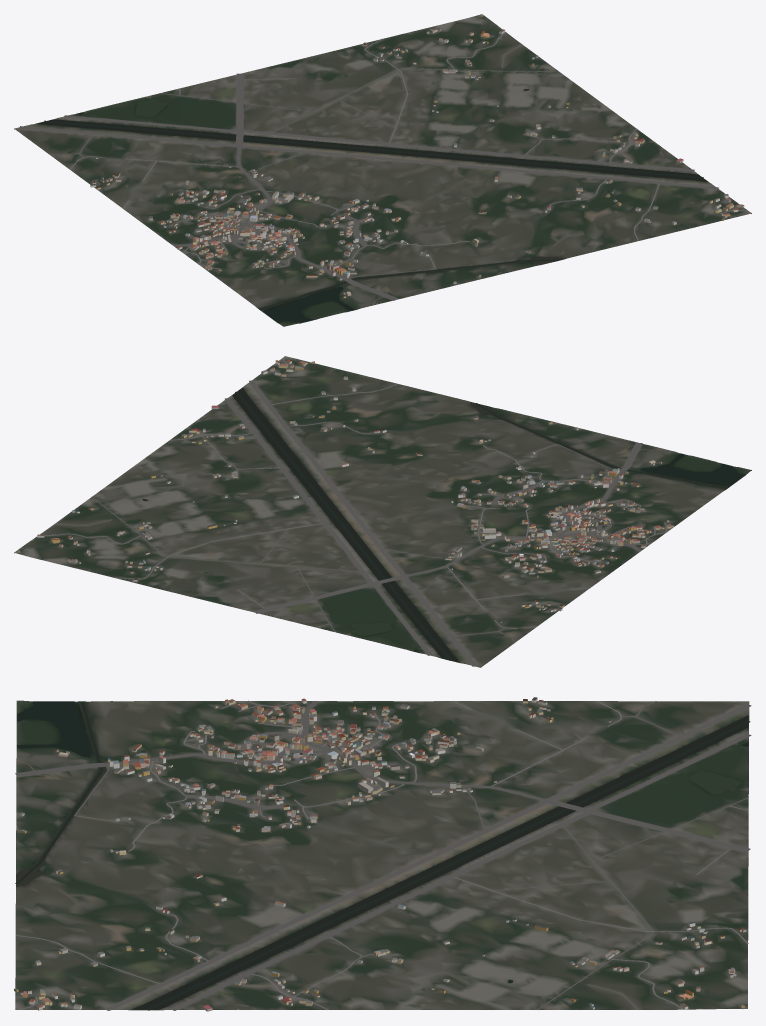
The picture shows the model from 3 angles, top to bottom: view 1: azimuth 30°, elevation 25°; view 2: azimuth 150°, elevation 25°; view 3: azimuth 270°, elevation 25°; orthographic projection. The views are drawn at different scales.
Parts seen in each view (by area): view 1: ground, roads, buildings, water; view 2: ground, roads, buildings, water; view 3: ground, roads, buildings, water.
Part boxes in pixels (left/top/right/bottom): ground: left=14, top=14, right=751, bottom=326; roads: left=19, top=15, right=751, bottom=305; buildings: left=90, top=14, right=744, bottom=297; water: left=35, top=89, right=708, bottom=322; ground: left=14, top=356, right=751, bottom=667; roads: left=15, top=356, right=667, bottom=666; buildings: left=17, top=360, right=673, bottom=622; water: left=142, top=387, right=745, bottom=662; ground: left=15, top=700, right=749, bottom=1010; roads: left=15, top=700, right=751, bottom=1010; buildings: left=14, top=697, right=746, bottom=1011; water: left=15, top=701, right=750, bottom=1010.
Size of the model in its own units: 1412 by 14.99 by 1412.
